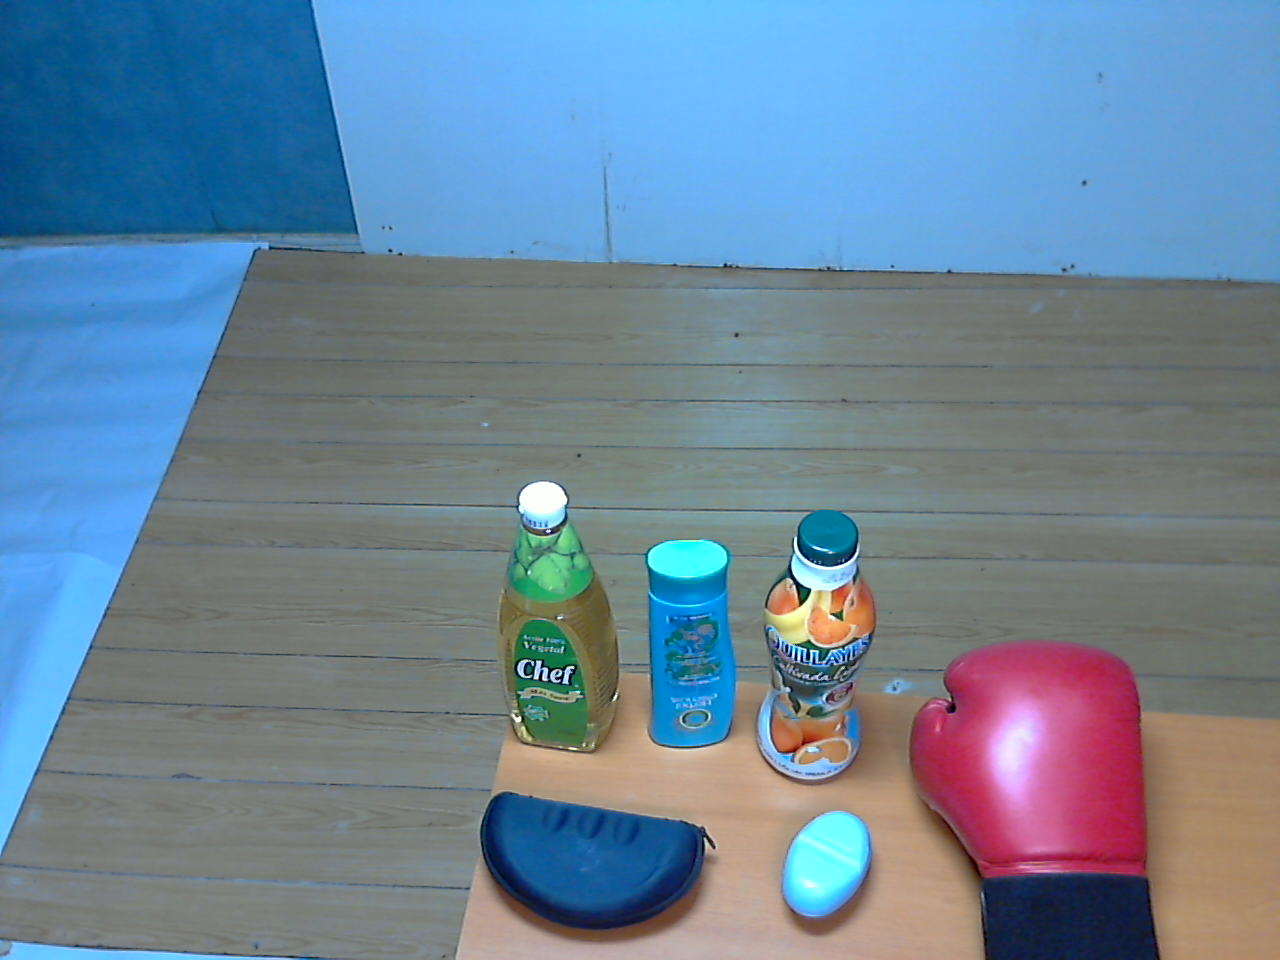aceite: (491, 473, 628, 766)
balsamo: (626, 525, 744, 766)
estuche: (466, 775, 723, 939)
guante: (902, 629, 1168, 960)
jabon: (776, 797, 882, 939)
yogurt: (751, 504, 885, 795)
